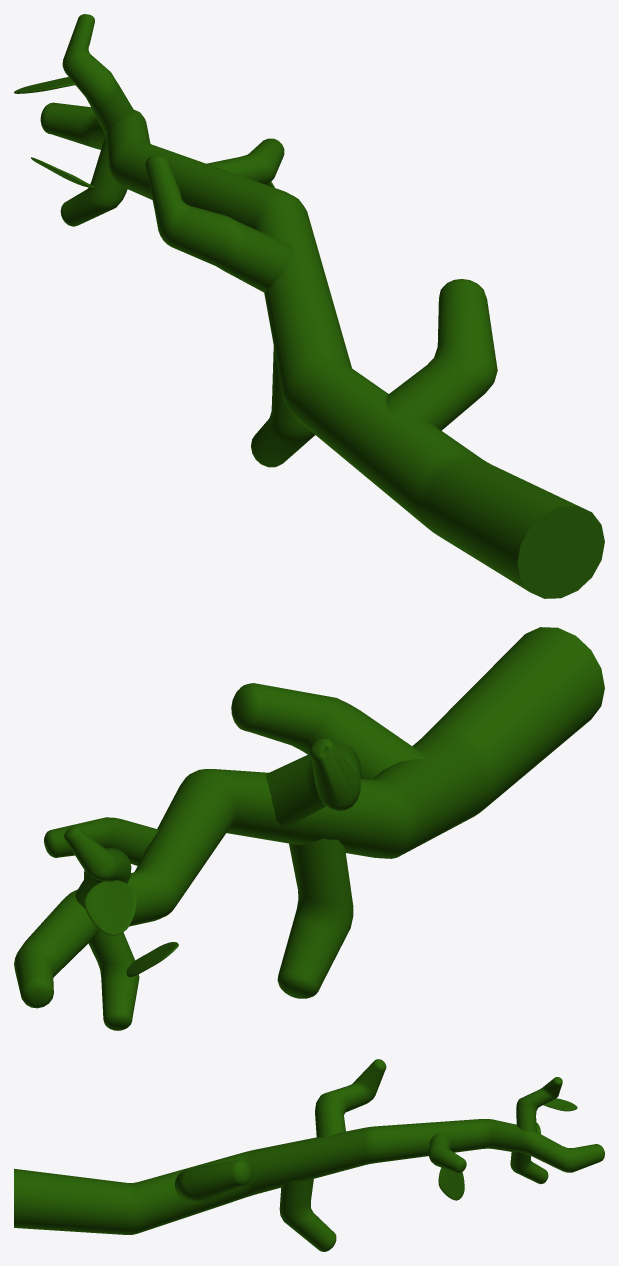
The model's file is BeanTree.fbx.
The picture shows the model from 3 angles, top to bottom: view 1: azimuth 30°, elevation 25°; view 2: azimuth 150°, elevation 25°; view 3: azimuth 270°, elevation 25°; orthographic projection. The views are drawn at different scales.
Parts seen in each view (by area): view 1: Cylinder001; view 2: Cylinder001; view 3: Cylinder001.
Part boxes in pixels (bbox=[...]): Cylinder001: bbox=[14, 14, 604, 598]; Cylinder001: bbox=[14, 627, 604, 1030]; Cylinder001: bbox=[14, 1059, 604, 1251].
Bounding box in the file's own units: 394 × 519 × 1570.
